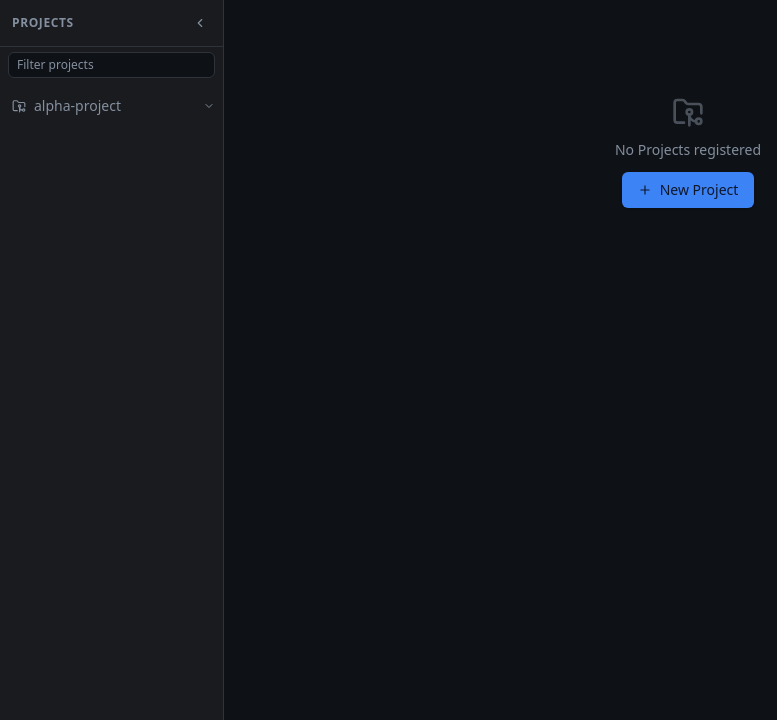
Test: RepoLayout project sidebar › shows a no-matches state when the filter matches nothing
Expected: the text "alpha-project" is shown, [34, 96, 121, 115]
Type "zzz" into the field labelled "Filter projects" at point(112, 65), box [8, 52, 215, 78]
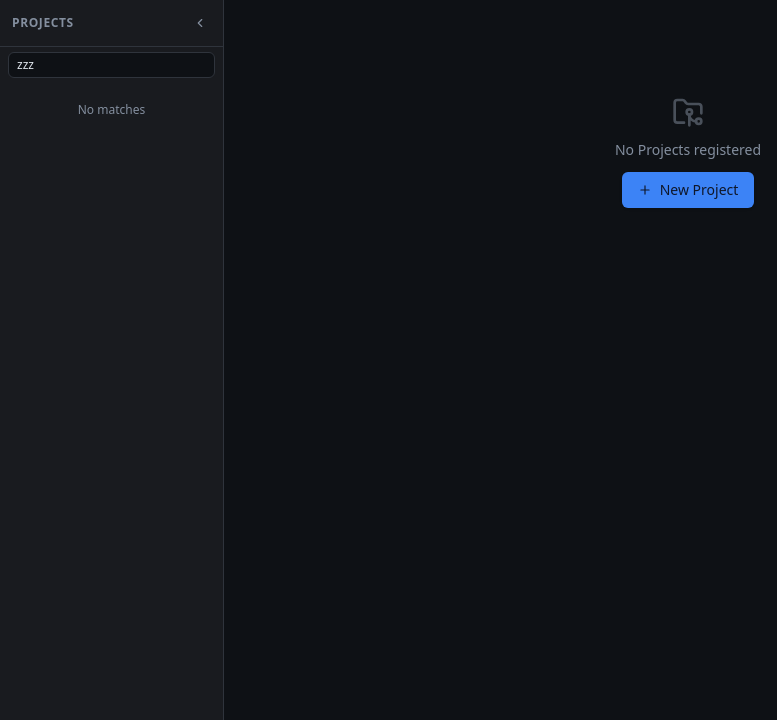
Expected: the link "alpha-project" is gone
Expected: the text "No matches" is shown, [78, 101, 145, 118]
